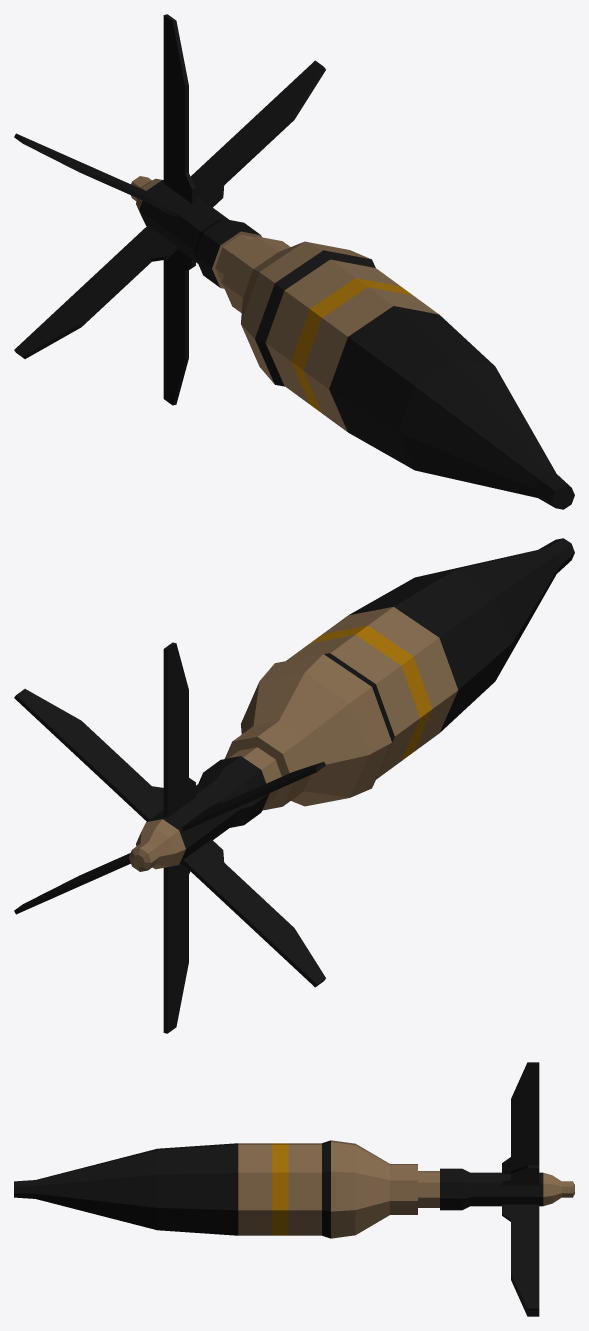
File: AT4 Rocket.fbx
The picture shows the model from 3 angles, top to bottom: view 1: azimuth 30°, elevation 25°; view 2: azimuth 150°, elevation 25°; view 3: azimuth 270°, elevation 25°; orthographic projection. The views are drawn at different scales.
Visible parts, largest first — view 1: Cylinder; view 2: Cylinder; view 3: Cylinder.
Boxes of the visible parts, box(x1,y1,x2,y2) form: Cylinder: box(14, 14, 574, 509); Cylinder: box(14, 538, 574, 1033); Cylinder: box(14, 1062, 574, 1316).
Size of the model in its own units: 18.97 by 22.94 by 46.04.
